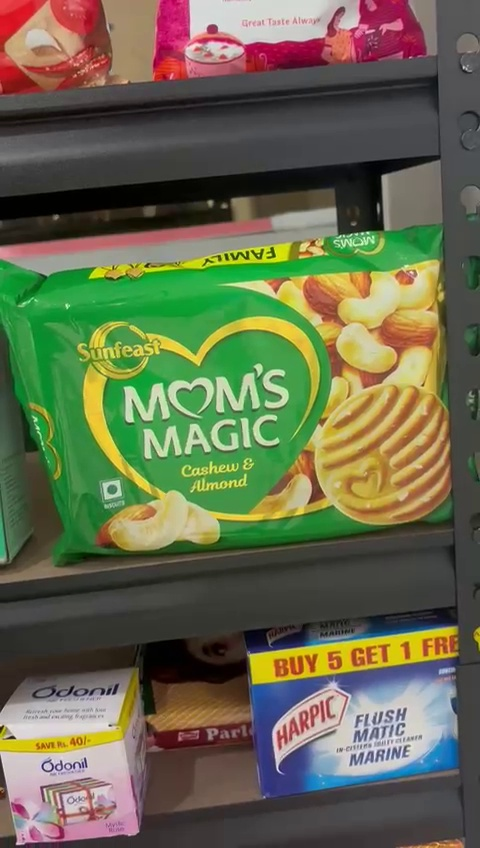Moms magic: (2, 266, 463, 541)
